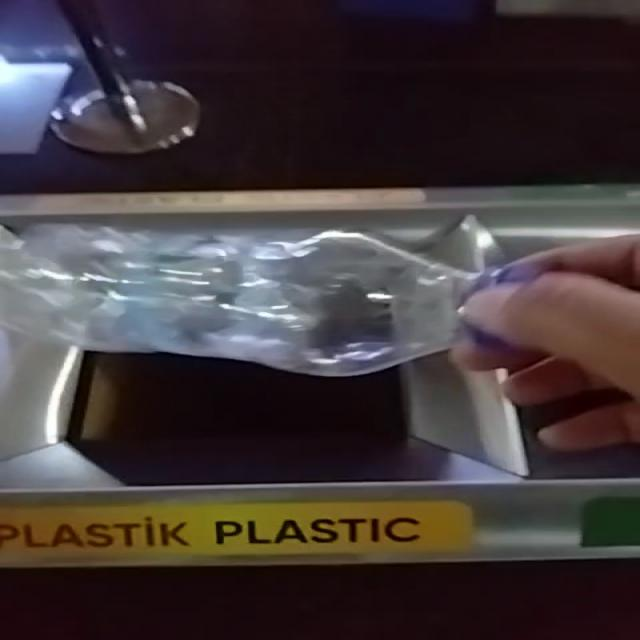plastic: (1, 224, 481, 376)
